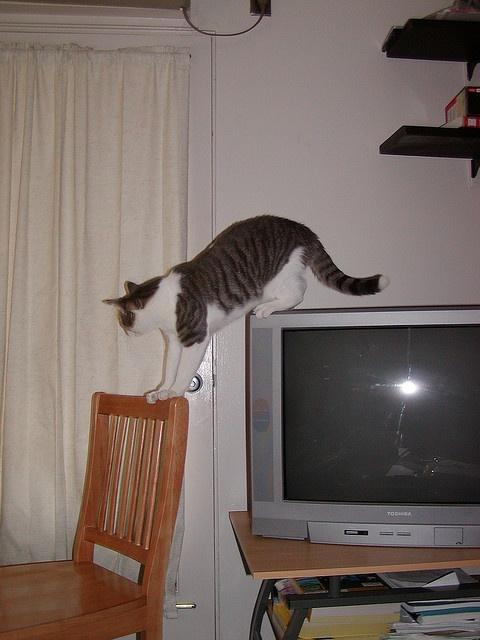AIO PC-Monitor-TV: (247, 303, 479, 547)
Kursi: (0, 391, 189, 639)
